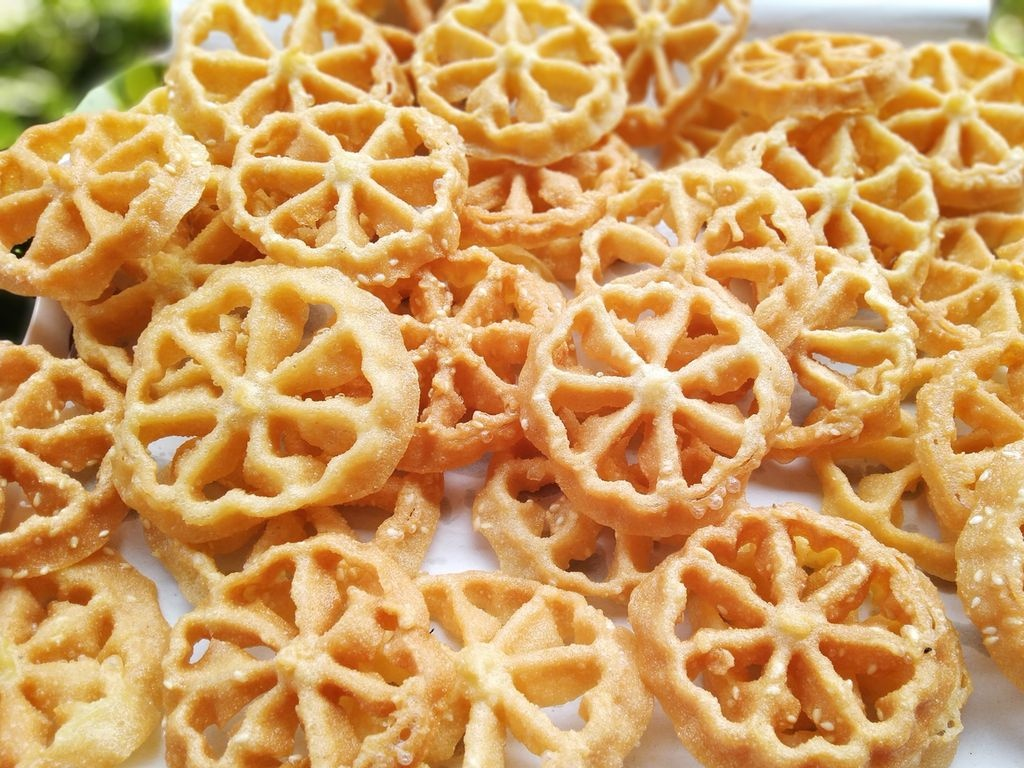kembang_goyang: (626, 493, 970, 768), (80, 277, 417, 512), (150, 516, 459, 768), (524, 259, 783, 527), (215, 89, 467, 267)
